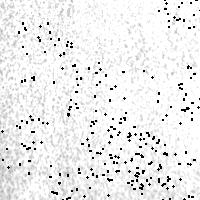pitted_surface: (1, 1, 200, 200), (18, 22, 76, 81), (67, 62, 125, 119), (78, 120, 134, 179), (143, 65, 199, 122), (108, 131, 167, 185), (133, 150, 193, 200), (0, 115, 50, 173), (49, 168, 107, 200), (158, 0, 200, 27)
